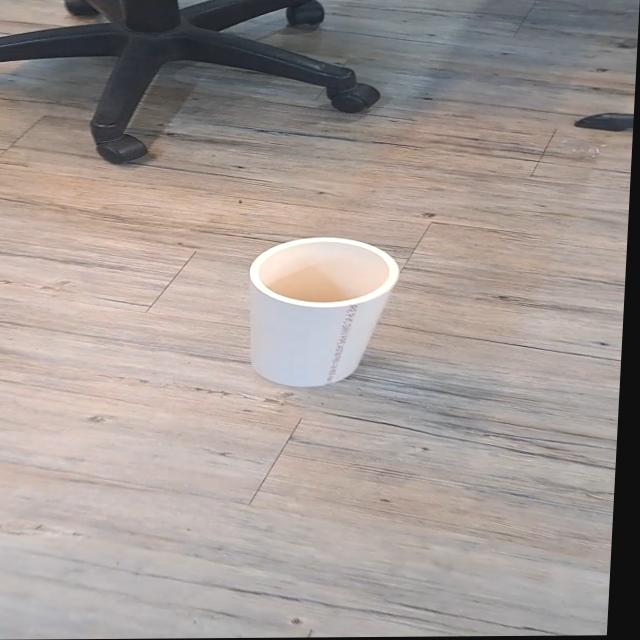CORAL: (235, 229, 406, 395)
